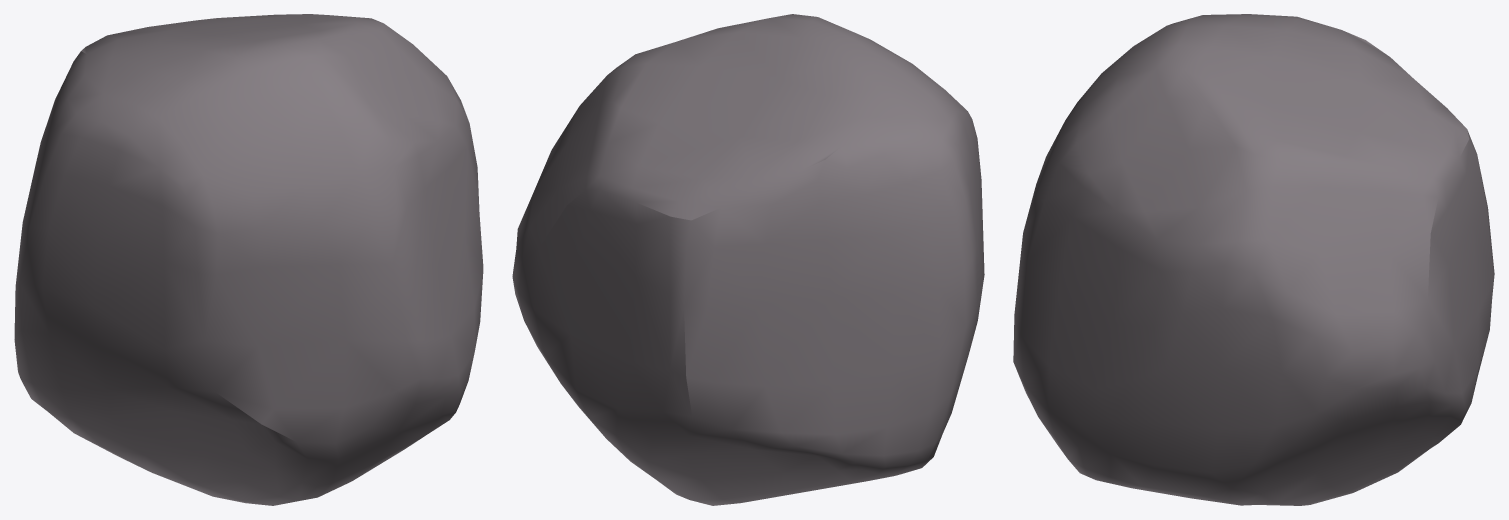
File: pebble.glb
3 views of the same model, side by side, from view 1: azimuth 30°, elevation 25°; view 2: azimuth 150°, elevation 25°; view 3: azimuth 270°, elevation 25° (orthographic). The views are drawn at different scales.
Parts seen in each view (by area): view 1: Prop_CannonBall; view 2: Prop_CannonBall; view 3: Prop_CannonBall.
Part boxes in pixels (box(x1,y1,x2,y2)): Prop_CannonBall: box(14, 14, 483, 505); Prop_CannonBall: box(512, 14, 984, 505); Prop_CannonBall: box(1013, 14, 1494, 505).
Size of the model in its own units: 0.4043 by 0.4062 by 0.3903.
1 material, 1 textured.
